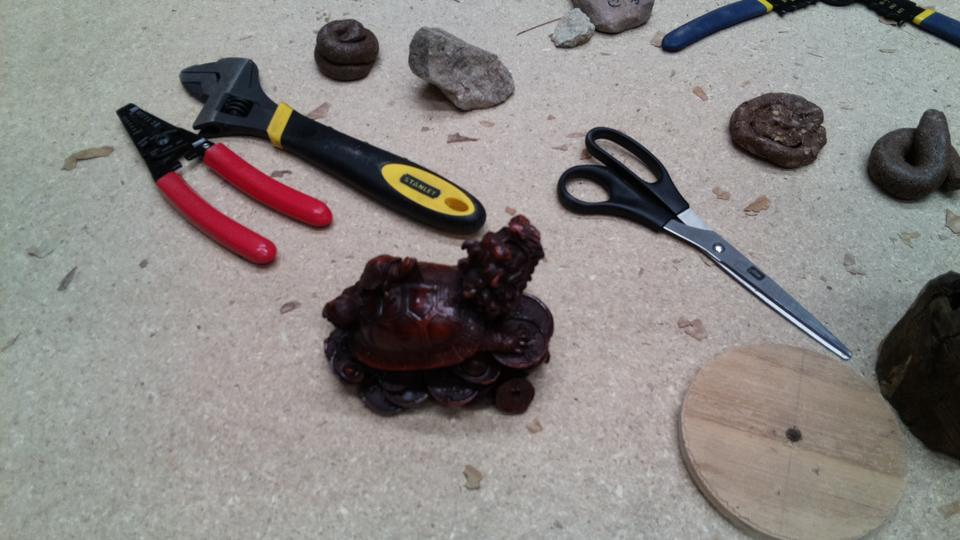poop: (865, 105, 960, 203), (725, 88, 830, 172), (312, 17, 383, 85)
